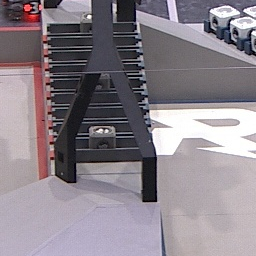Red: (23, 3, 44, 15)
